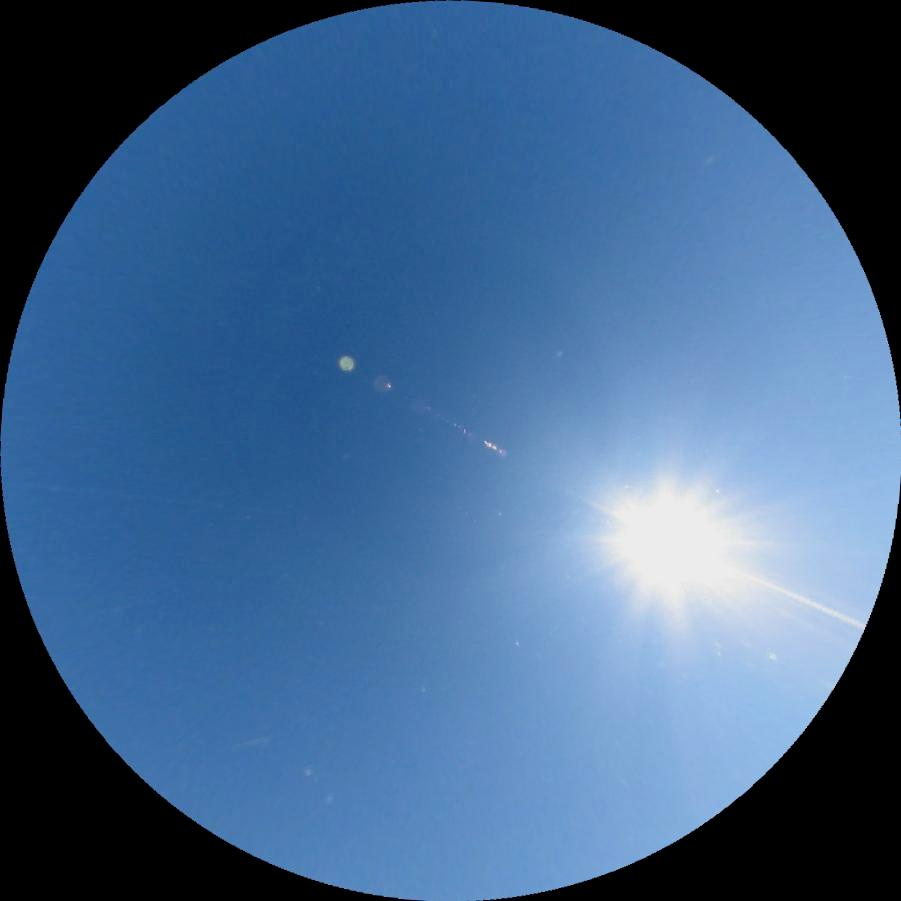contrail young: (226, 736, 274, 752)
parasite: (731, 565, 867, 629)
sun: (593, 462, 747, 619)
